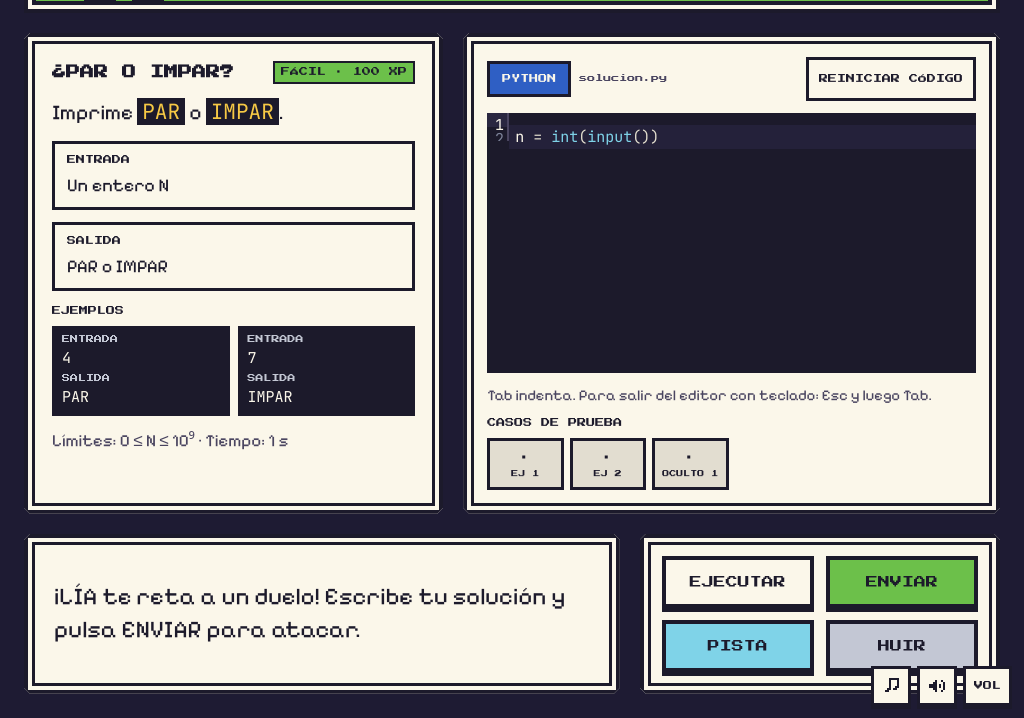
Test: BattleScreen › muestra el error de red
(page scrolled)
What coordinates should you click on to do the following:
click the button "ENVIAR"
I would click on:
 (902, 582)
Its box is [826,556,978,608].
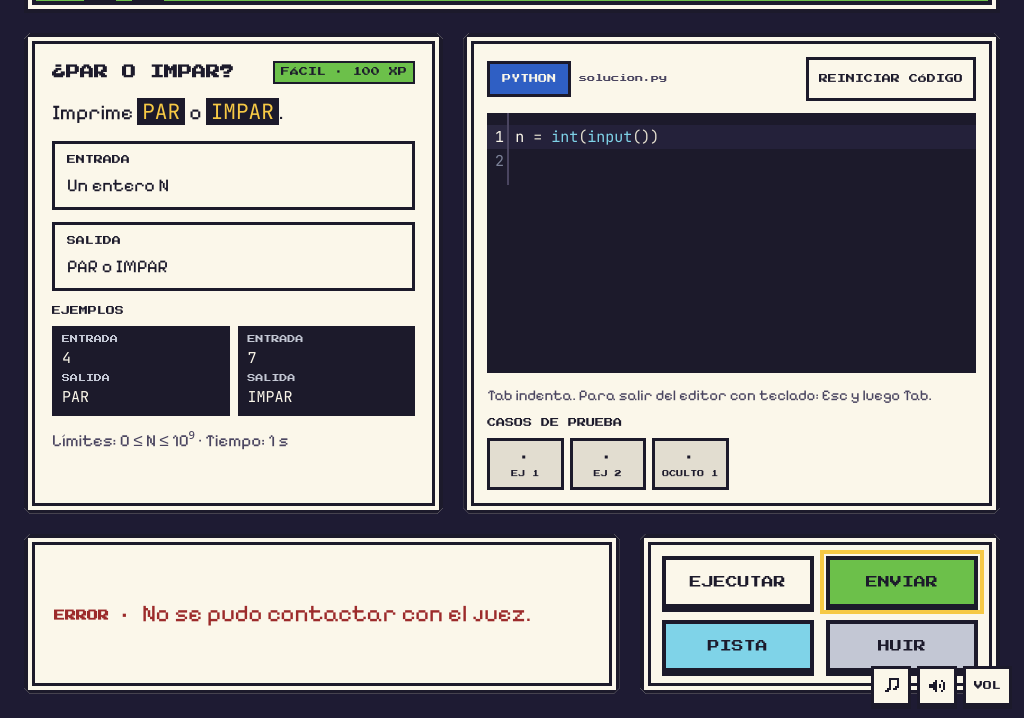
Check: the message shows "No se pudo contactar", box [142,599,531,628]
